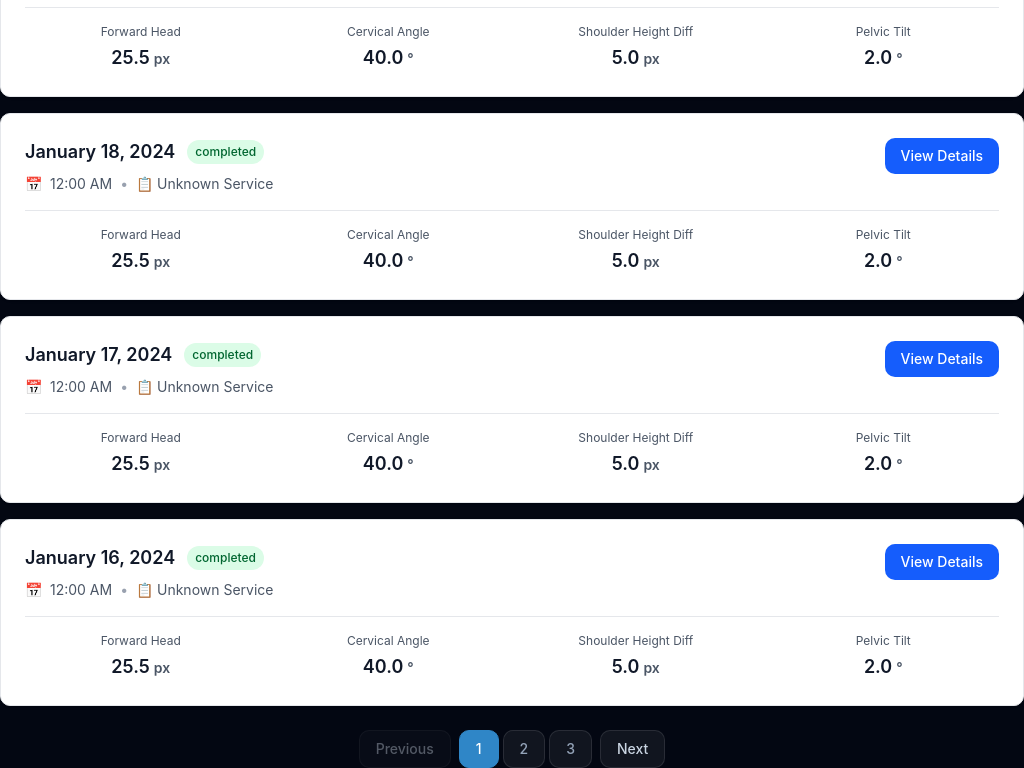
Test: AssessmentHistory › Filtering › should reset to page 1 when filters change
(page scrolled)
Go to page 2
Click the button "2" at (524, 749), box [503,730,545,767]
(page scrolled)
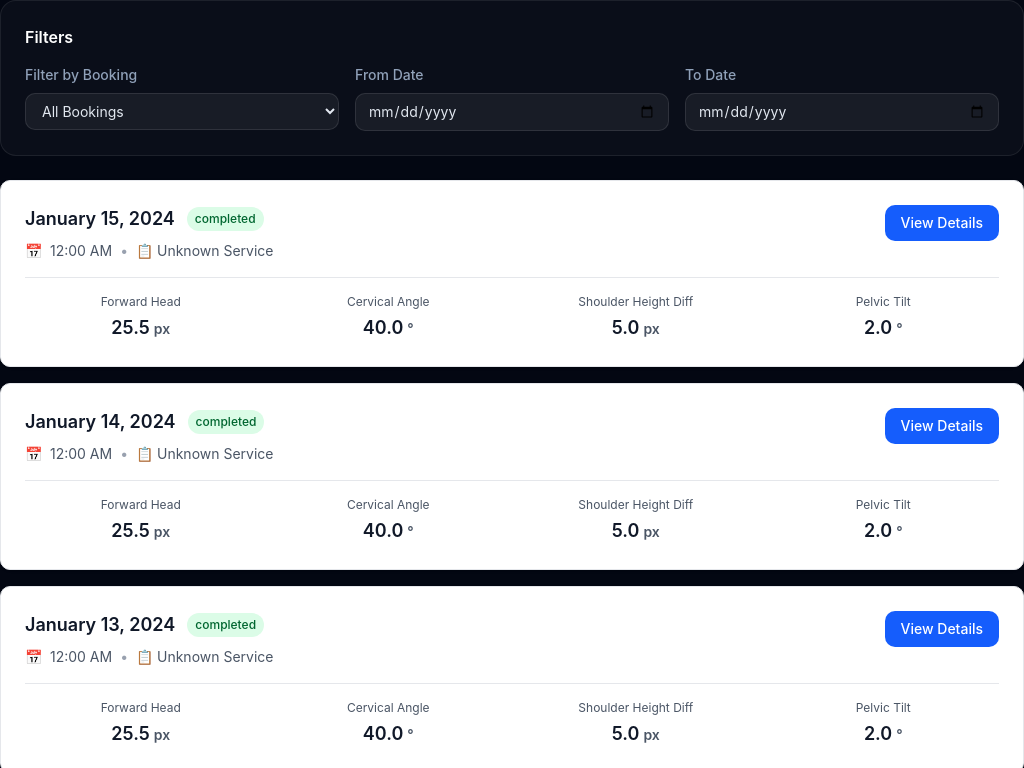
Apply a filter
Type "2024-01-01" into the date field labelled "From Date" at (512, 112), box [355,93,669,131]
(page scrolled)
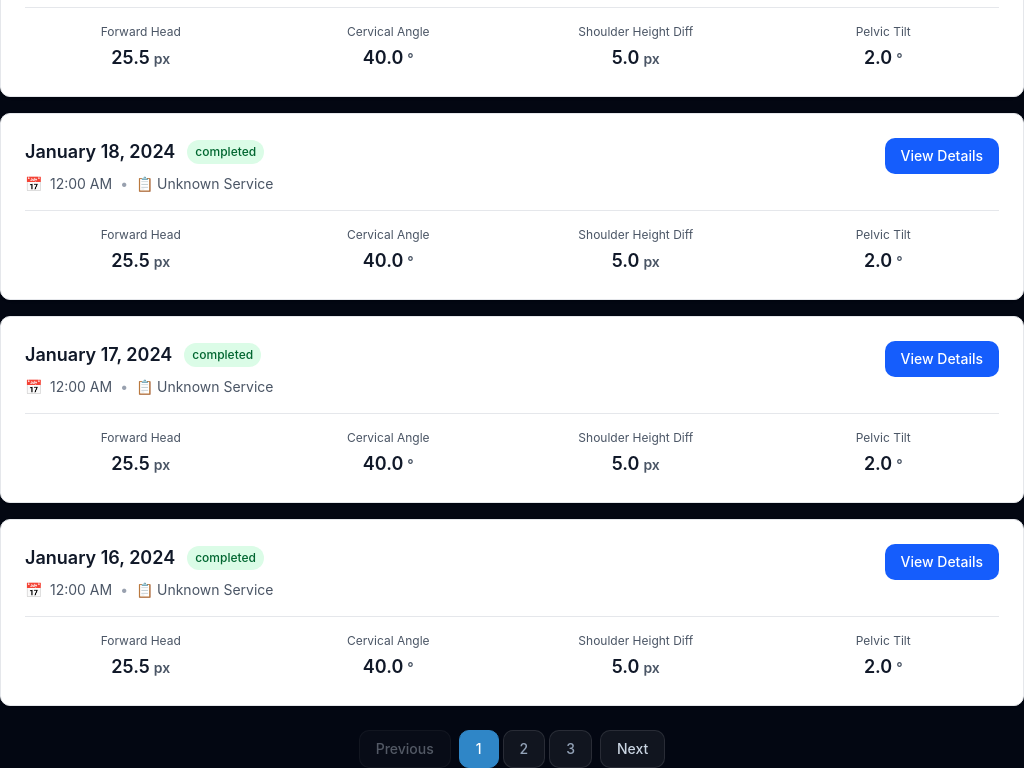
Check: the button "Previous" is disabled, box [359,730,451,767]
